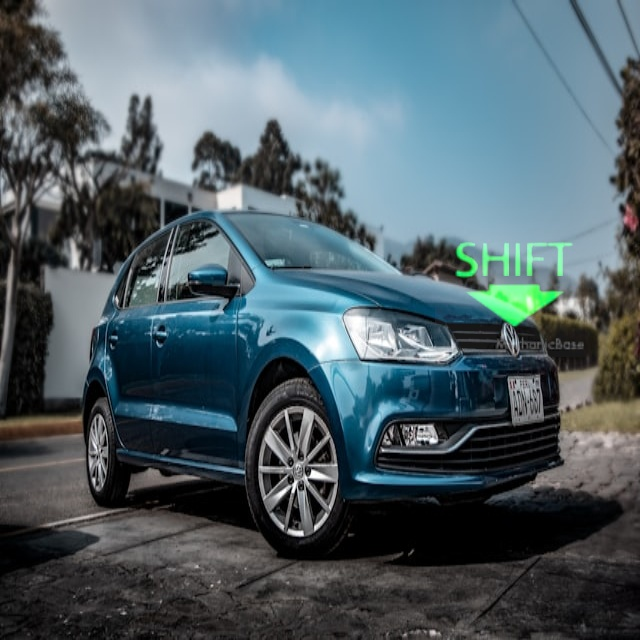symbol: (435, 202, 590, 357)
